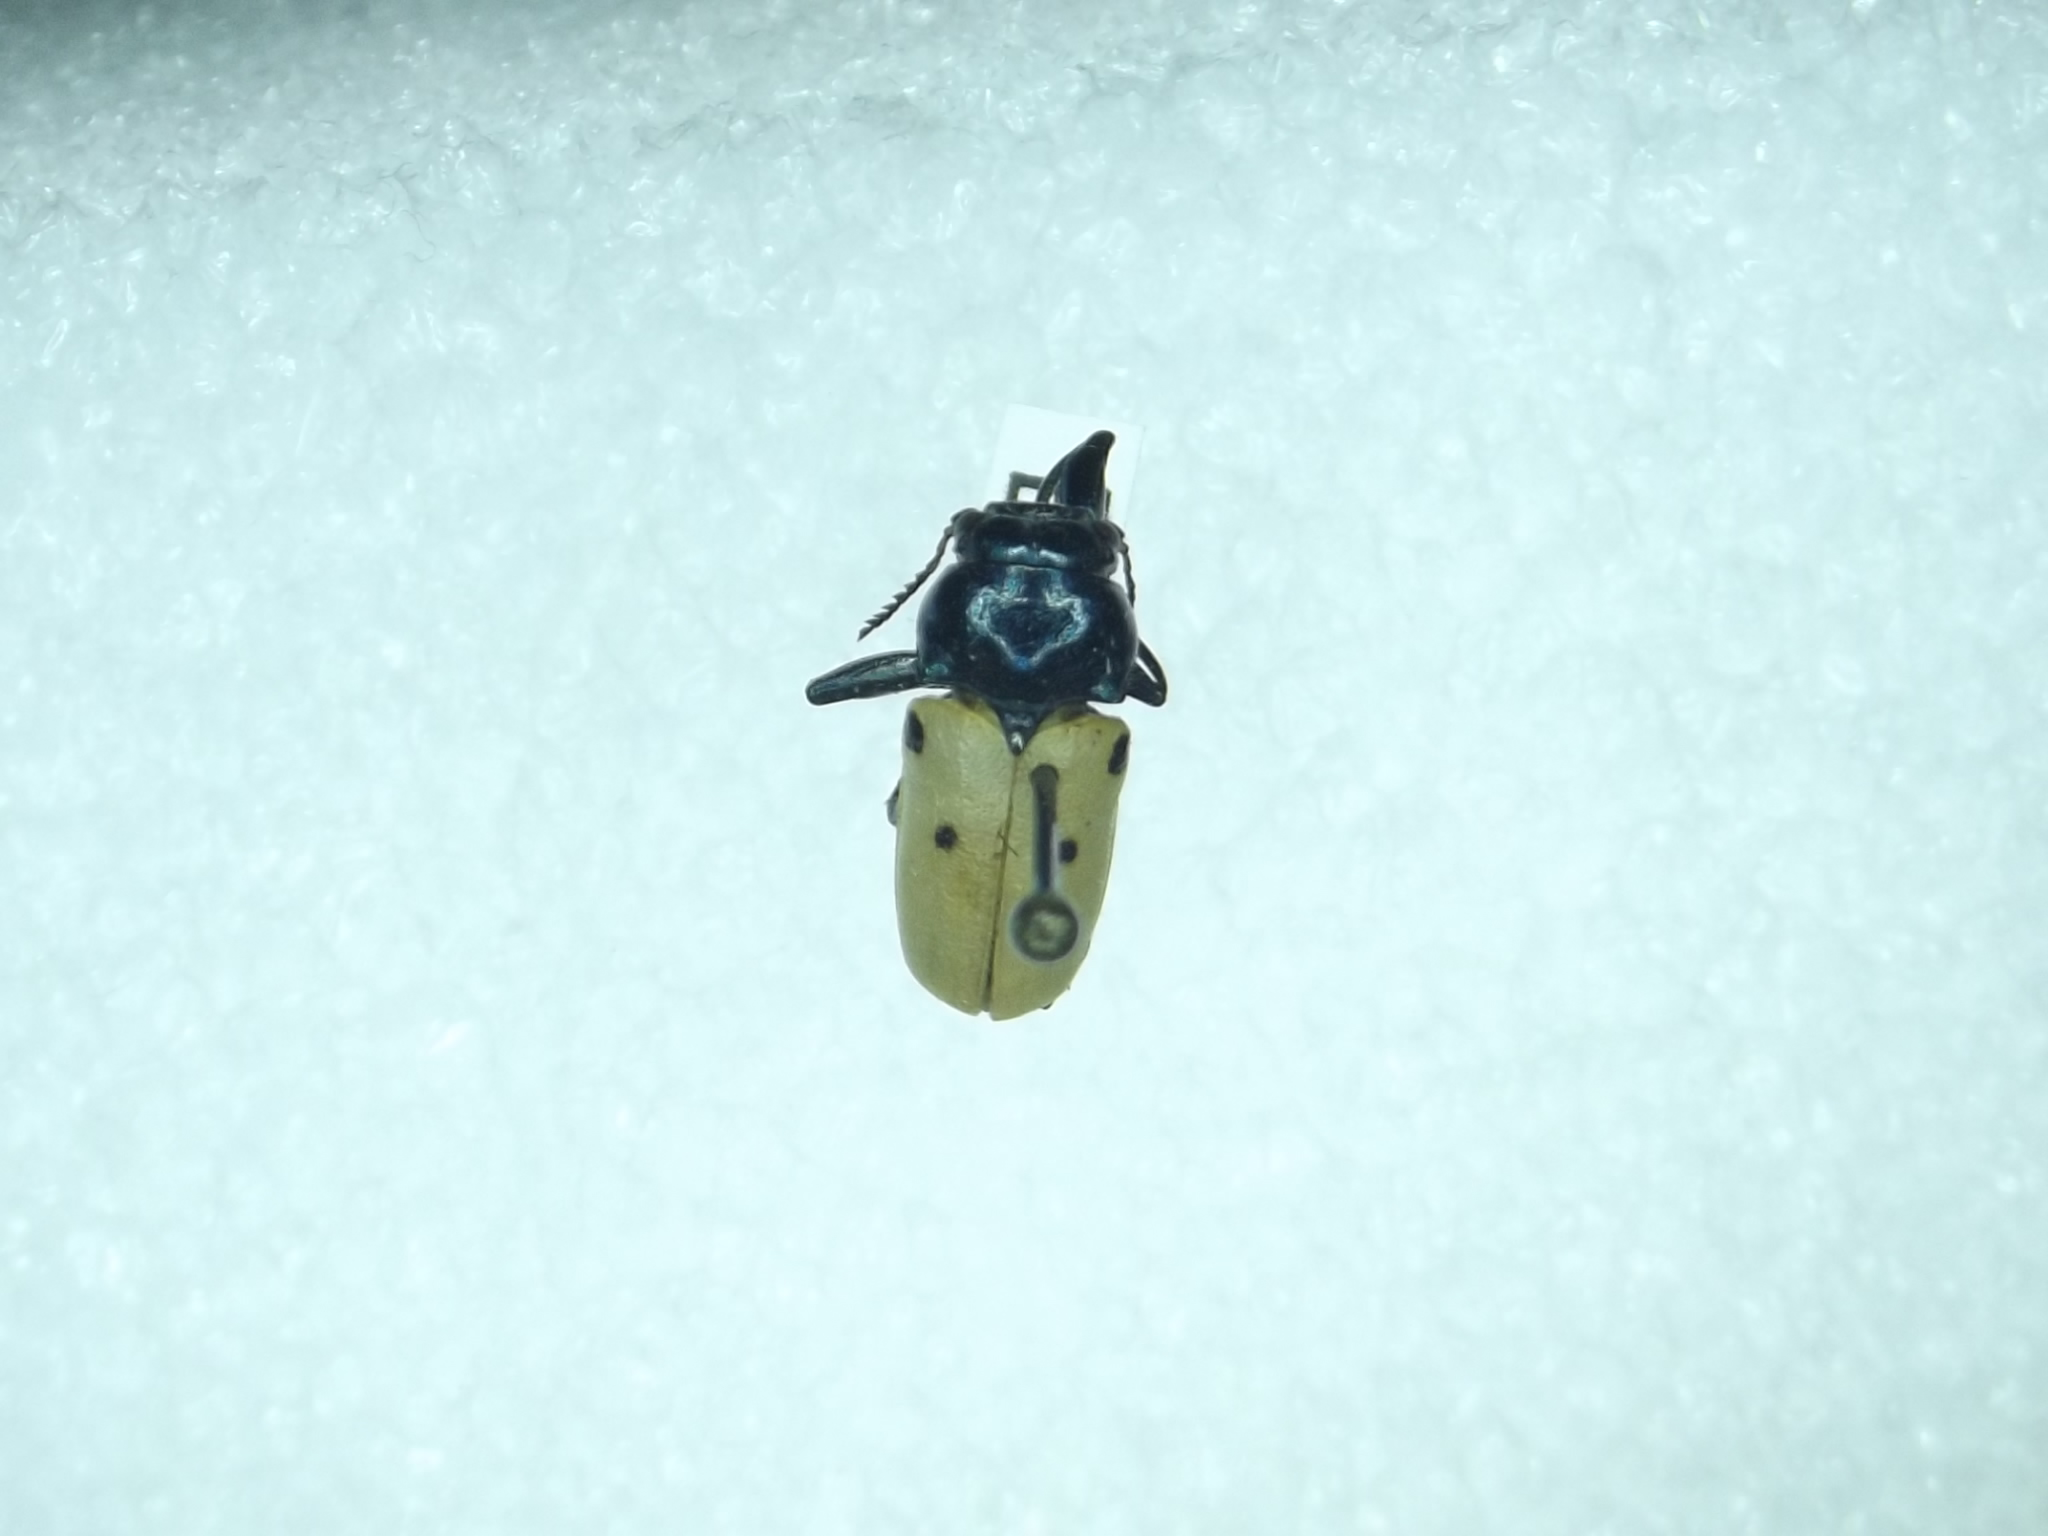Labidostomis_maculipennis: (777, 416, 1163, 1031)
